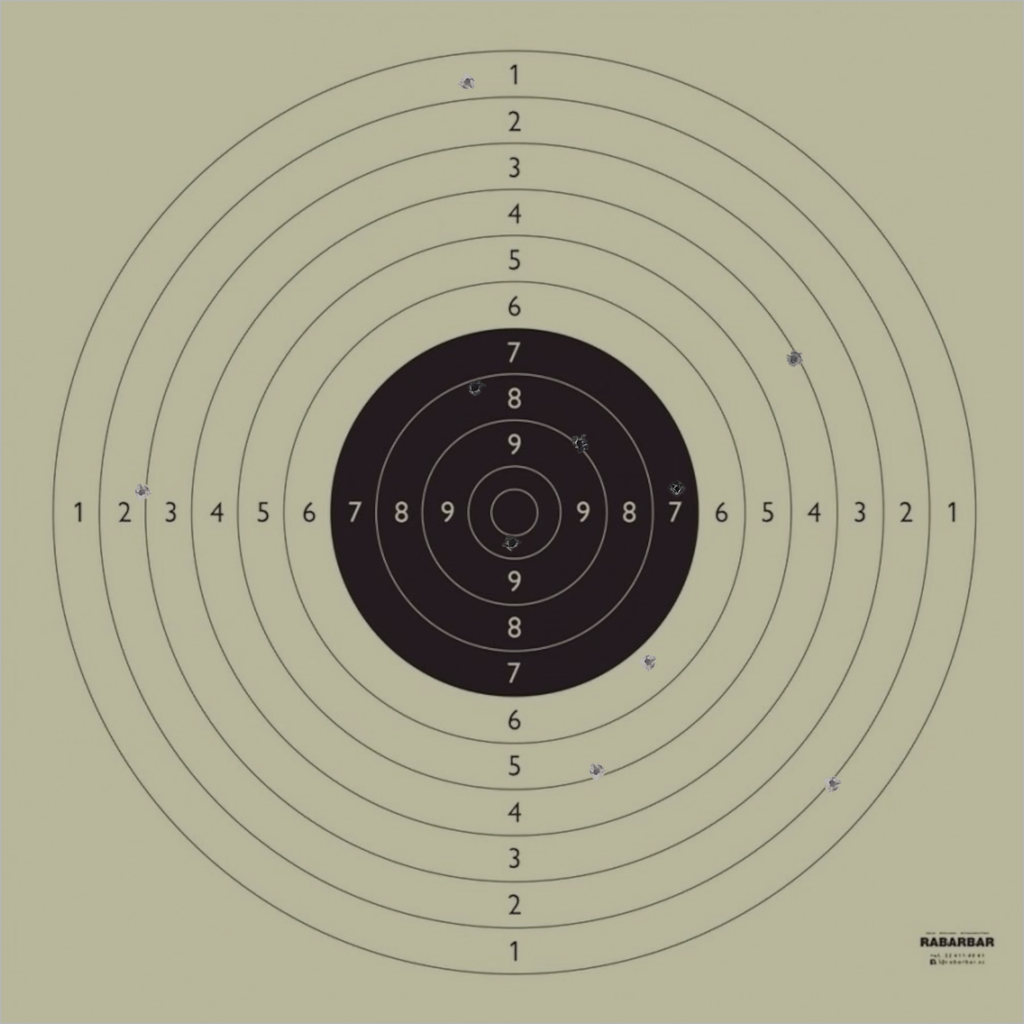0 punktow: (838, 29, 857, 47)
1 punkt: (458, 73, 477, 91)
10 punktow: (503, 534, 521, 552)
2 punkty: (823, 774, 842, 793)
3 punkty: (133, 483, 151, 501)
4 punkty: (785, 350, 803, 368)
5 punktow: (587, 762, 606, 780)
6 punktow: (639, 653, 657, 671)
7 punktow: (668, 480, 686, 498)
8 punktow: (466, 378, 485, 397)
9 punktow: (571, 435, 589, 453)
